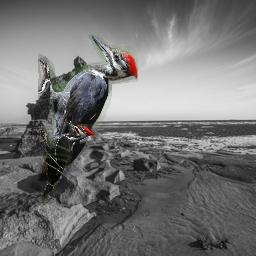Woodpecker: (38, 35, 138, 181), (39, 122, 95, 202)
